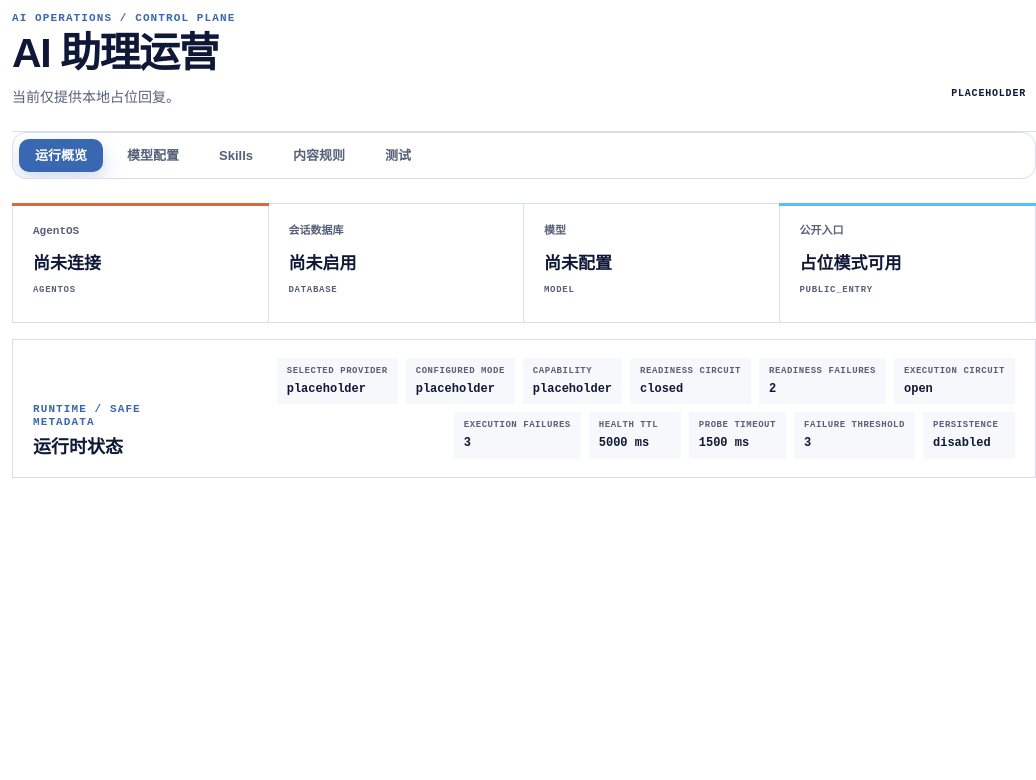
Test: AssistantAdminPage › switches between the five focused Agent management tabs
This screenshot has width=1036, height=780.
Expected: the heading "运行时状态" is shown, [33,437,123,457]
Click the tab "模型配置" at (153, 156), box [111,139,195,172]
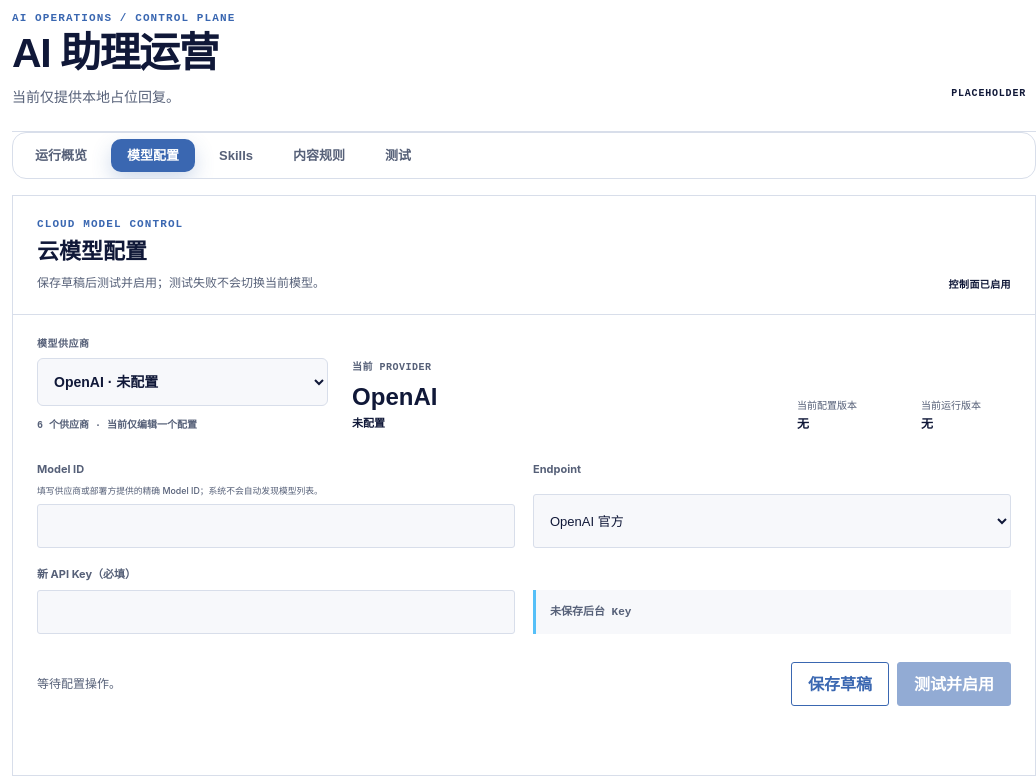
Expected: the heading "云模型配置" is shown, [37,239,147,264]
Click the tab "Skills" at (236, 156), box [203,139,269,172]
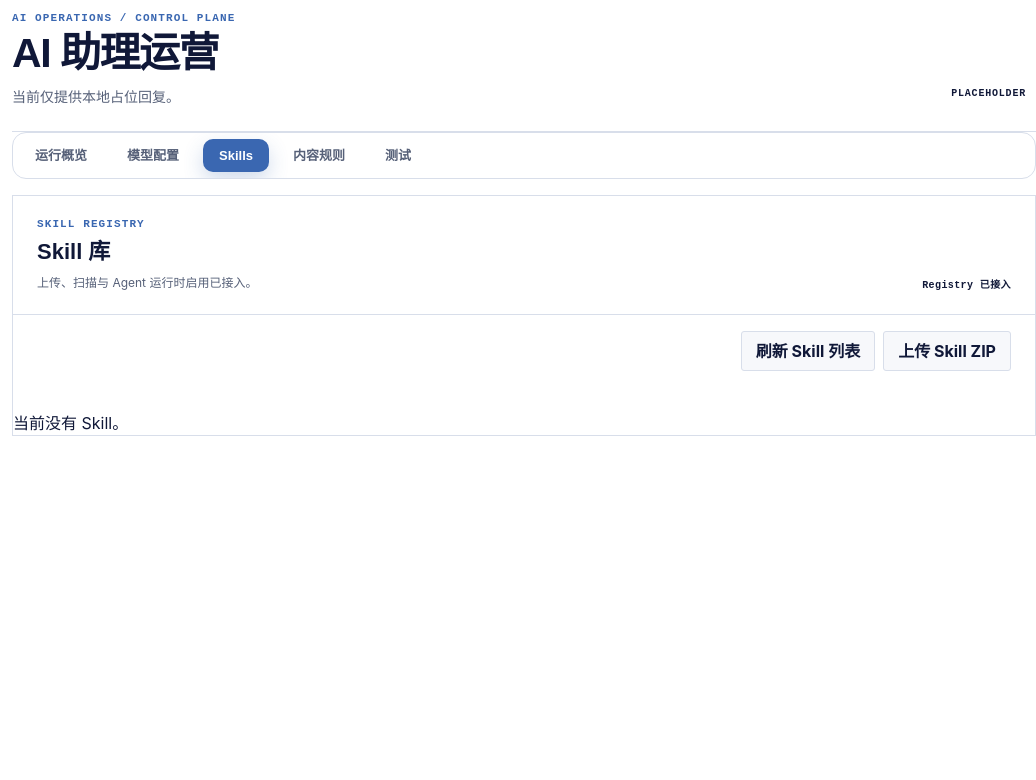
Expected: the heading "Skill 库" is shown, [37,239,110,264]
Click the tab "内容规则" at (319, 156), box [277,139,361,172]
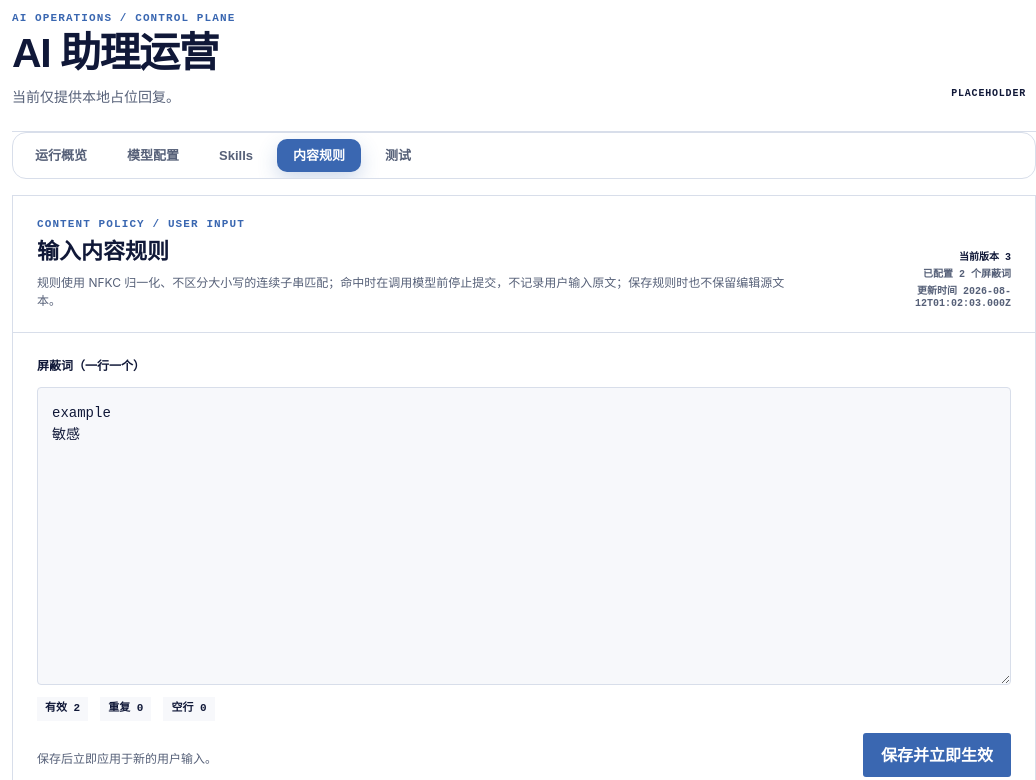
Expected: the heading "输入内容规则" is shown, [37,239,169,264]
Click the tab "测试" at (398, 156), box [369,139,427,172]
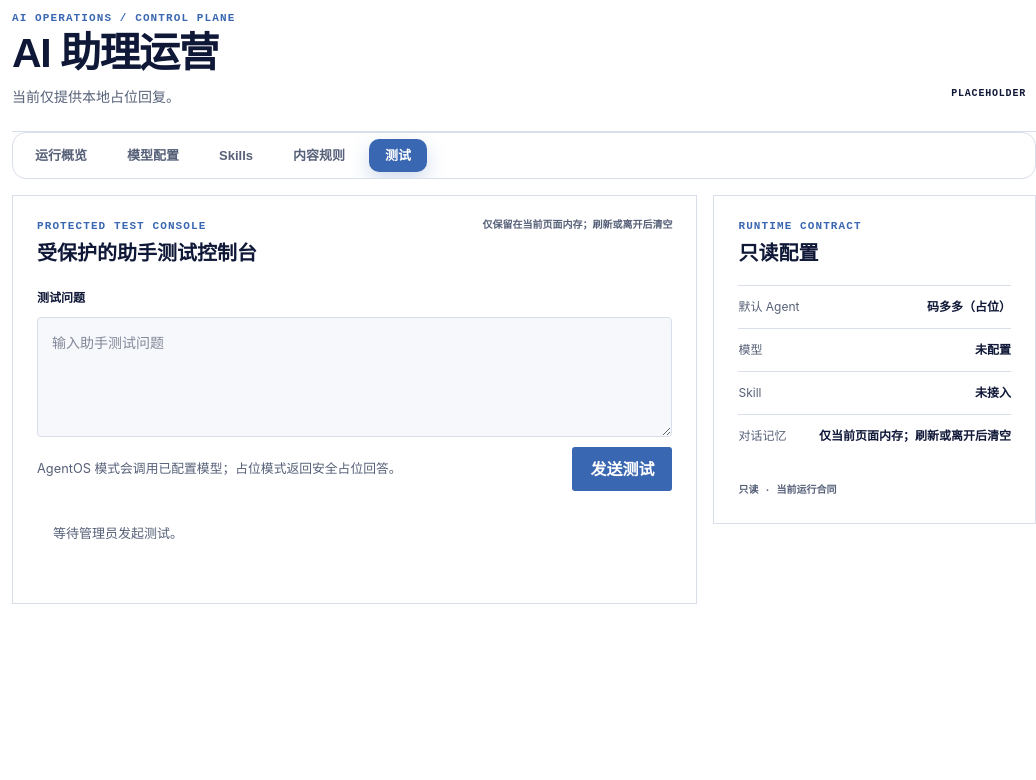
Expected: the heading "受保护的助手测试控制台" is shown, [37,241,257,265]
